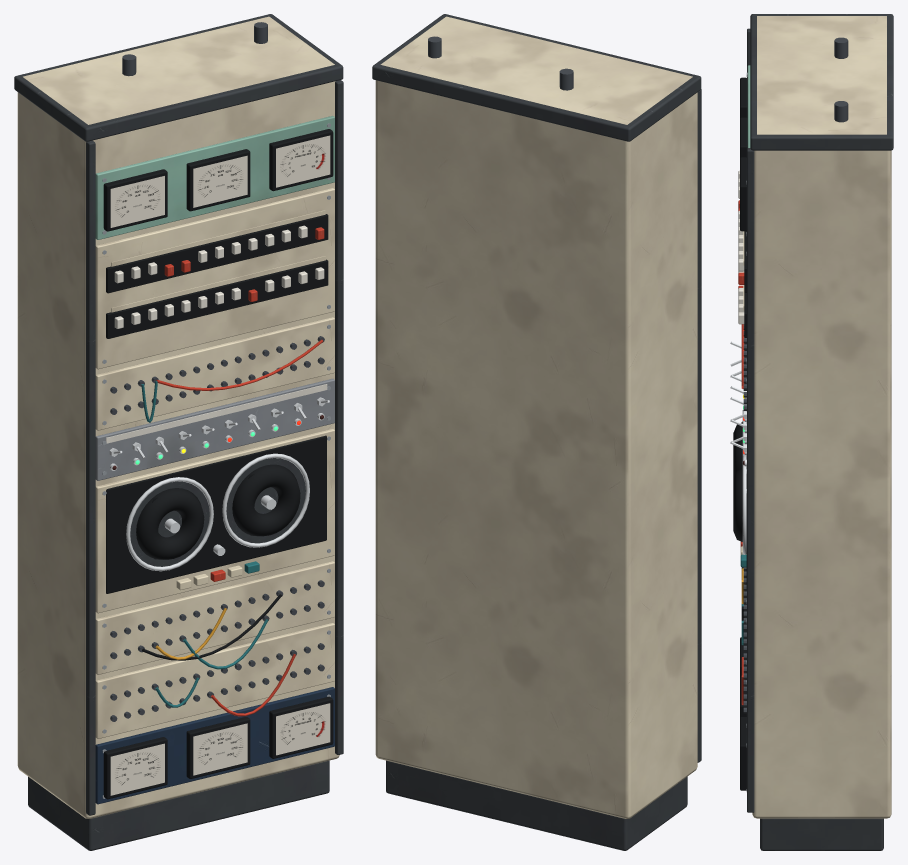
File: Rack_75_0.glb
3 renders of one model, left to right at view 1: azimuth 30°, elevation 25°; view 2: azimuth 150°, elevation 25°; view 3: azimuth 270°, elevation 25°, orthographic.
Parts seen in each view (by area): view 1: Rack_75_0_Body; view 2: Rack_75_0_Body; view 3: Rack_75_0_Body.
Part boxes in pixels (x1,y1,x2,y2): Rack_75_0_Body: [14, 14, 343, 850]; Rack_75_0_Body: [372, 14, 701, 850]; Rack_75_0_Body: [730, 14, 893, 850].
Size of the model in its own units: 0.76 by 2.1 by 0.4216.
20 materials, 11 textured.
